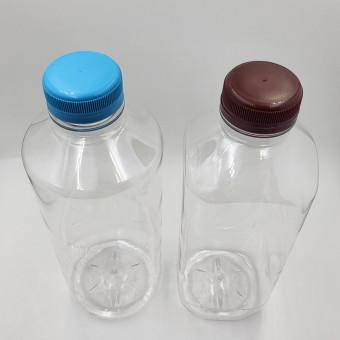plastic_bottle: (21, 46, 167, 317), (178, 52, 324, 319)
